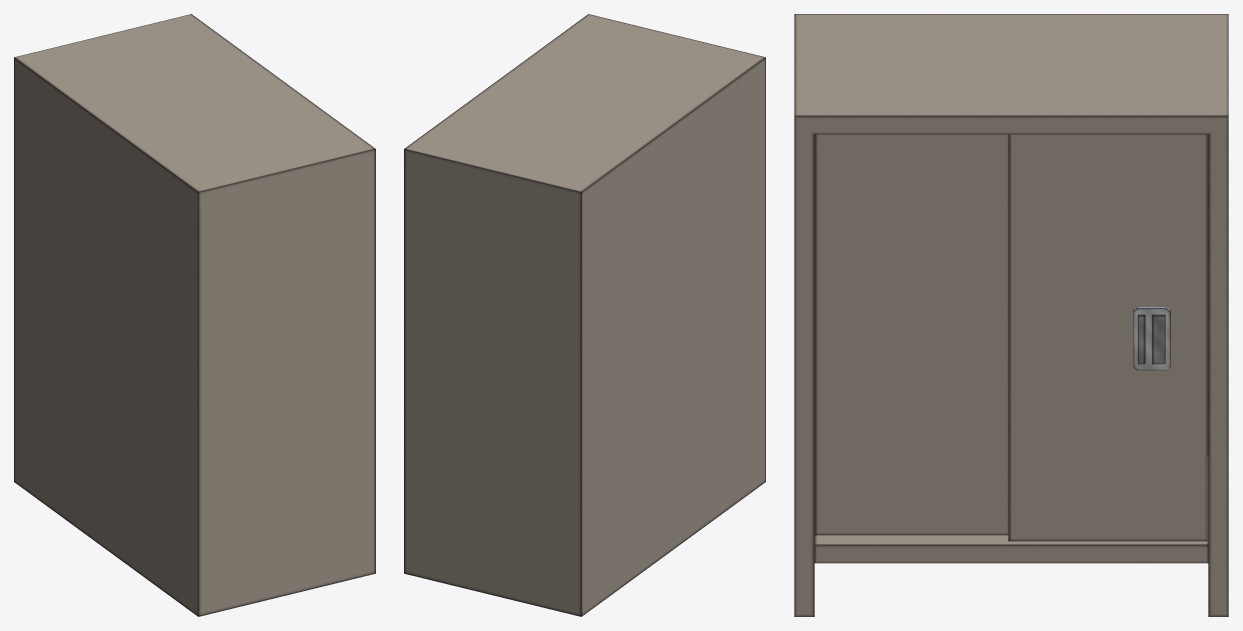
Rendered from shelf2_animated.fbx.
3 renders of one model, left to right at view 1: azimuth 30°, elevation 25°; view 2: azimuth 150°, elevation 25°; view 3: azimuth 270°, elevation 25°, orthographic. The views are drawn at different scales.
Visible parts, largest first — view 1: shelf; view 2: shelf; view 3: shelf, door.
Part boxes in pixels (x1=…): shelf: x1=14, y1=14, x2=375, y2=616; shelf: x1=404, y1=14, x2=765, y2=616; shelf: x1=794, y1=14, x2=1228, y2=616; door: x1=1008, y1=134, x2=1207, y2=541.
Size of the model in its own units: 0.8622 by 1.97 by 1.55.
